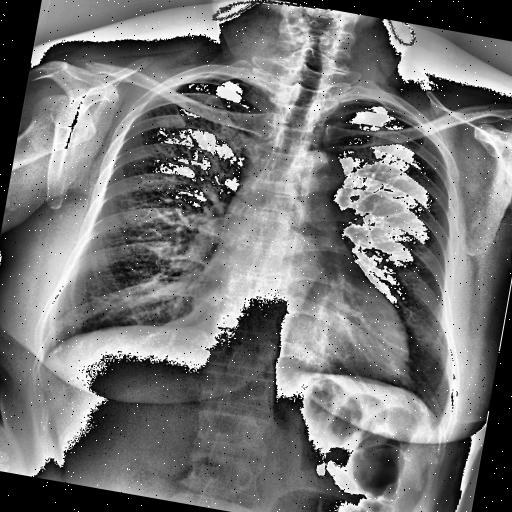0- Aortic enlargement: (297, 148, 347, 190)
13- Pulmonary fibrosis: (161, 285, 208, 332)
3- Cardiomegaly: (172, 260, 422, 387), (184, 270, 422, 386)
